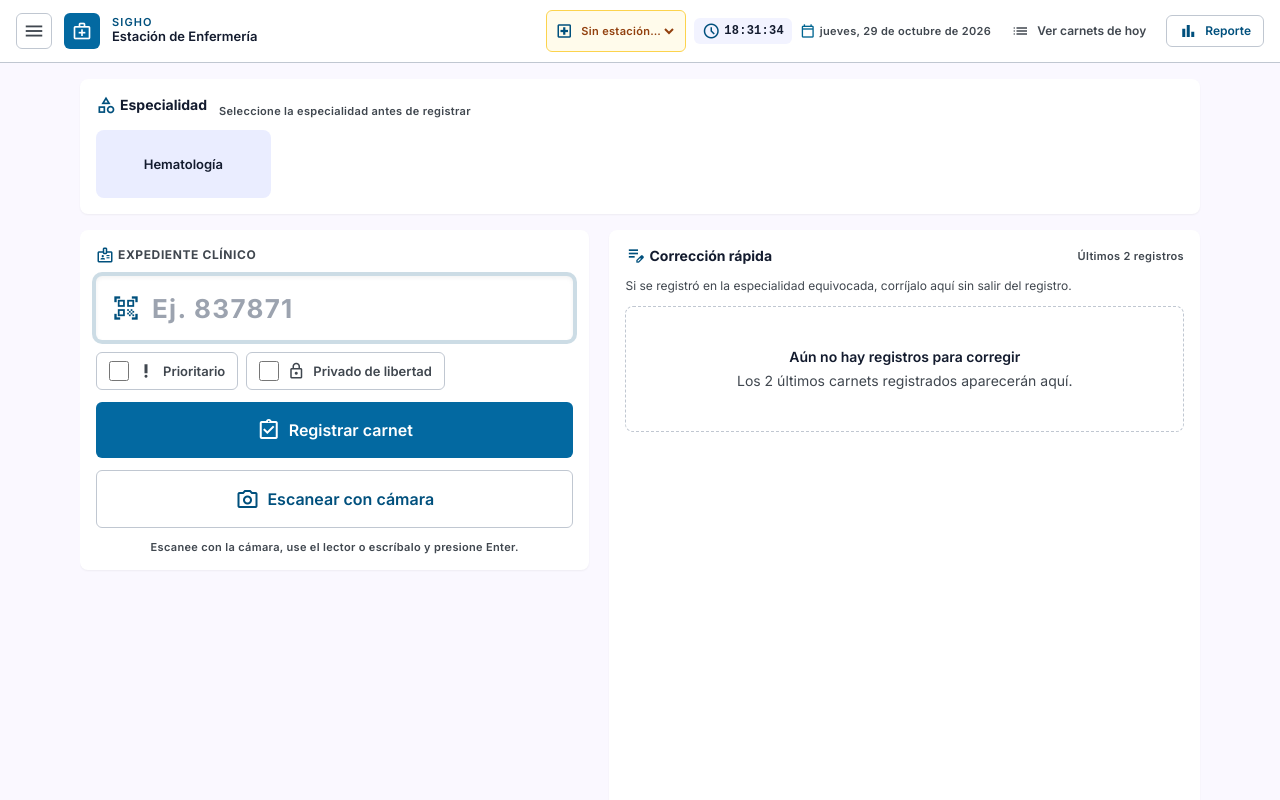
Test: RegistroCarnetsPage › avisa cuando el expediente ya fue registrado hoy (409)
Click the radio button labelled "Hematología" at (183, 164), box [96,130,271,198]
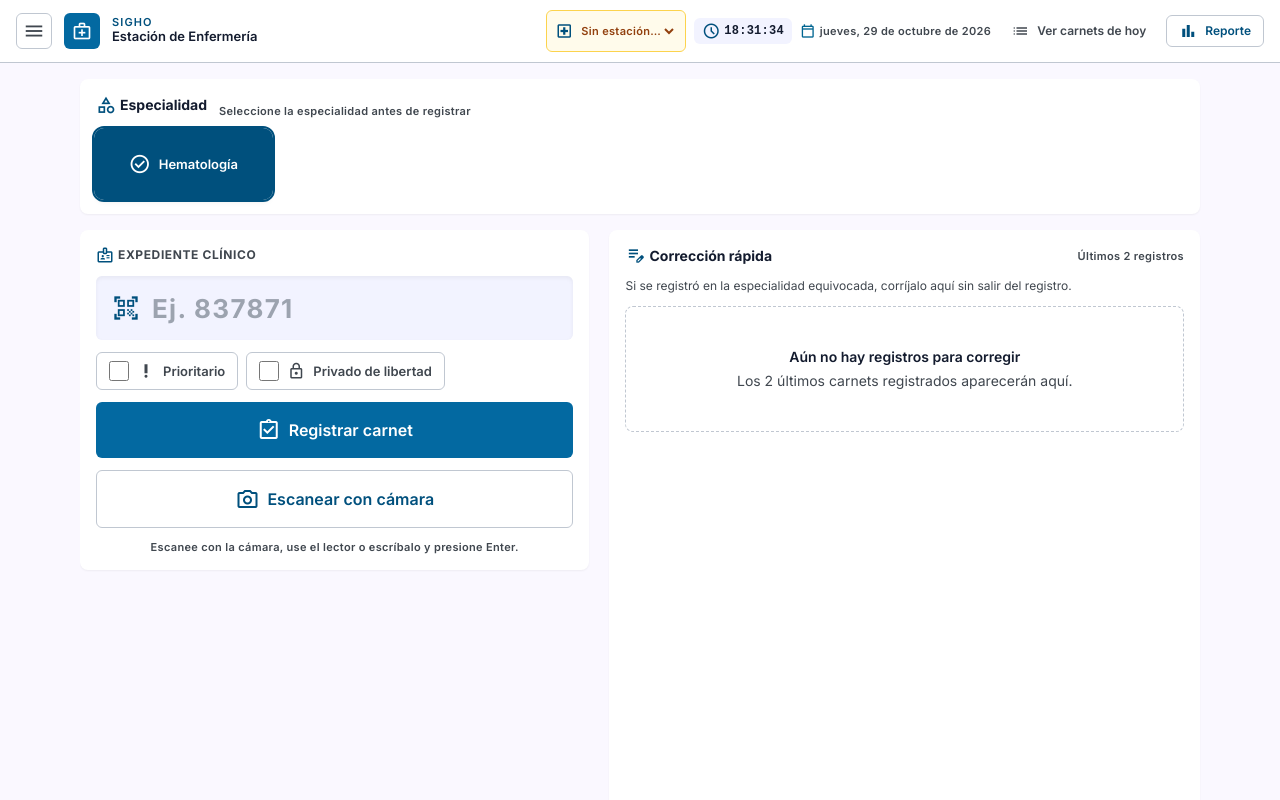
Type "837871" into the field with placeholder "Ej. 837871" at (335, 308), box [96,276,574,340]
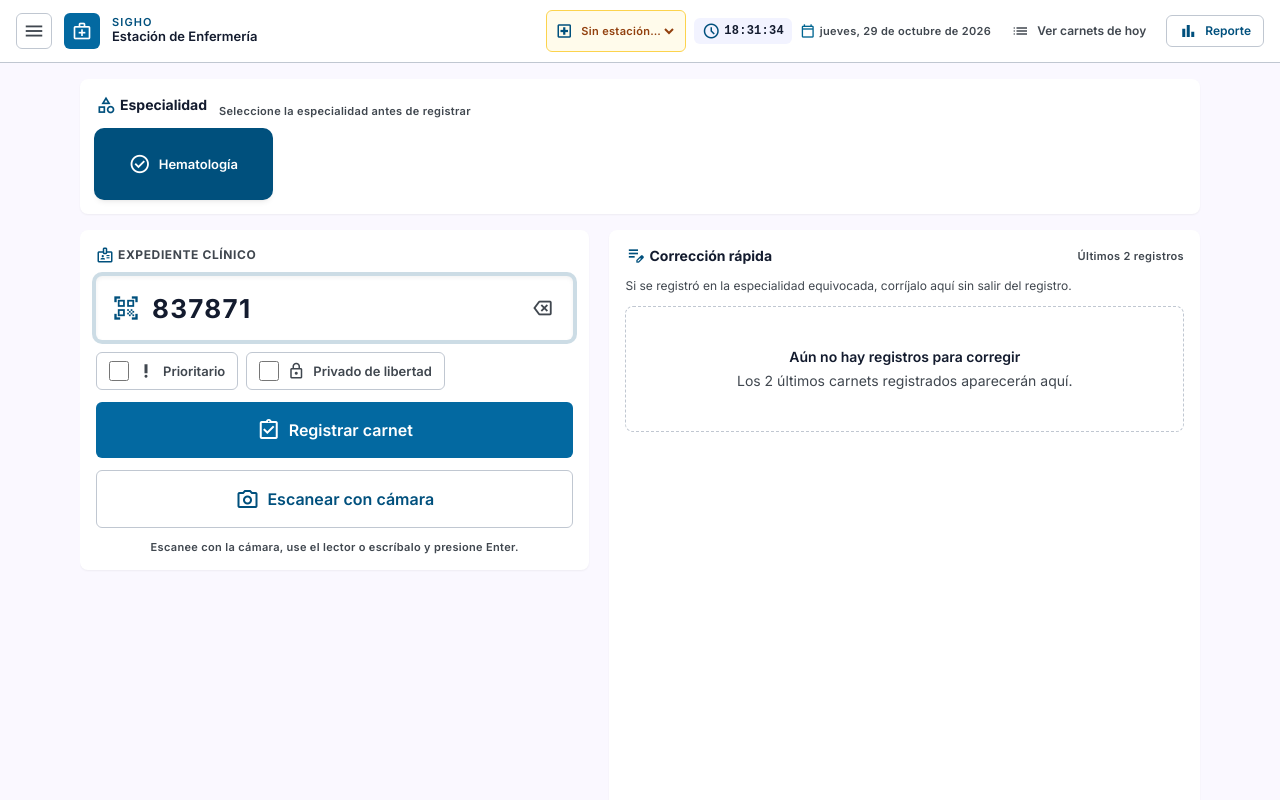
Click the button "Registrar carnet" at (335, 430), box [96,402,574,458]
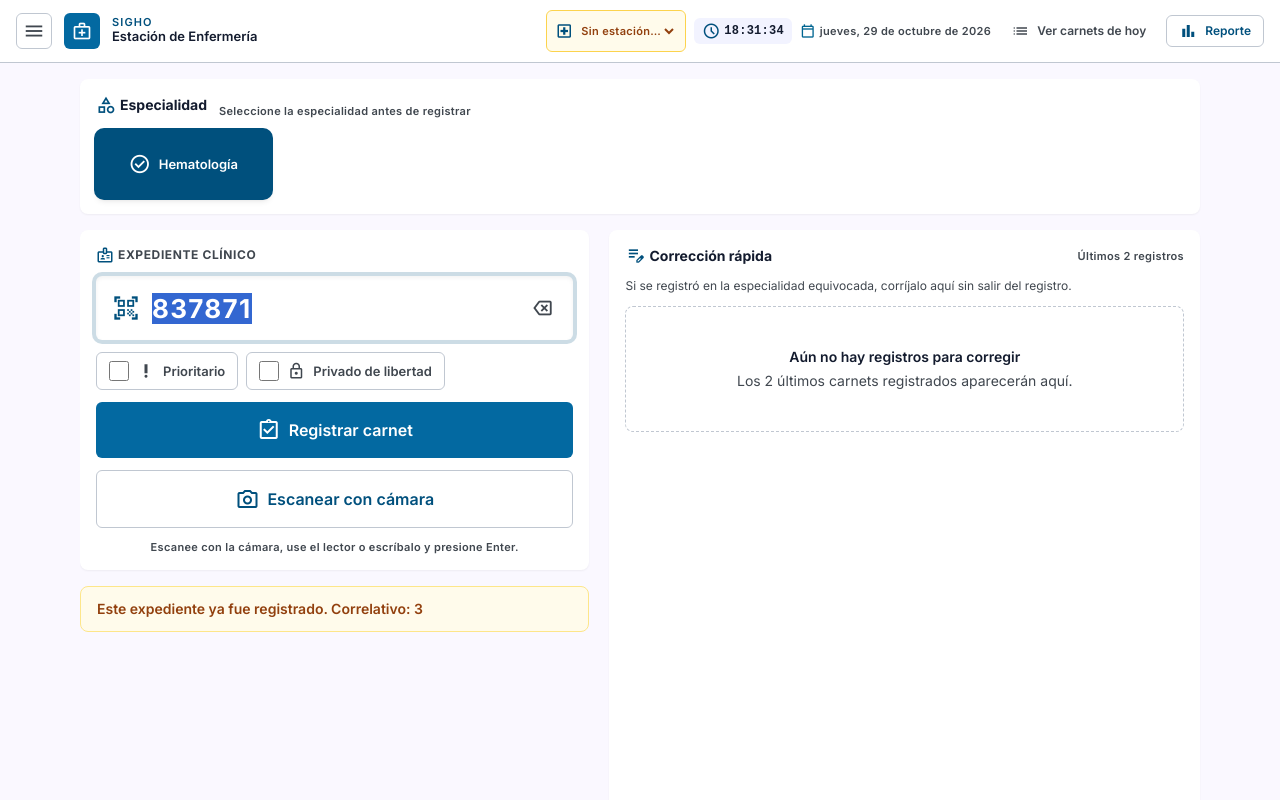
Expected: the text "Este expediente ya fue registrado. Correlativo: 3" is shown, [97,600,423,617]
